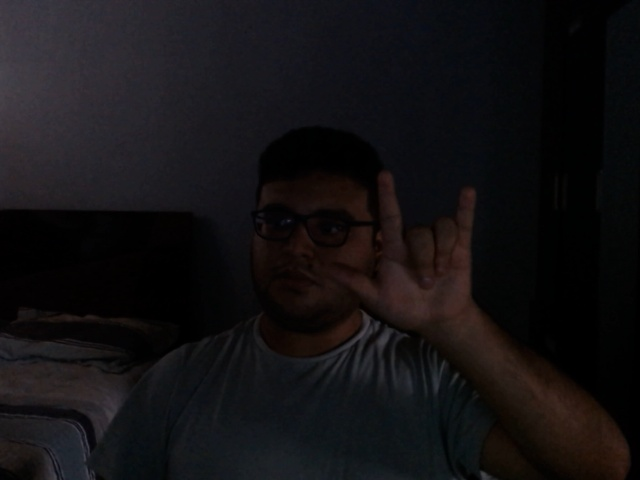I love you: (333, 168, 490, 343)
